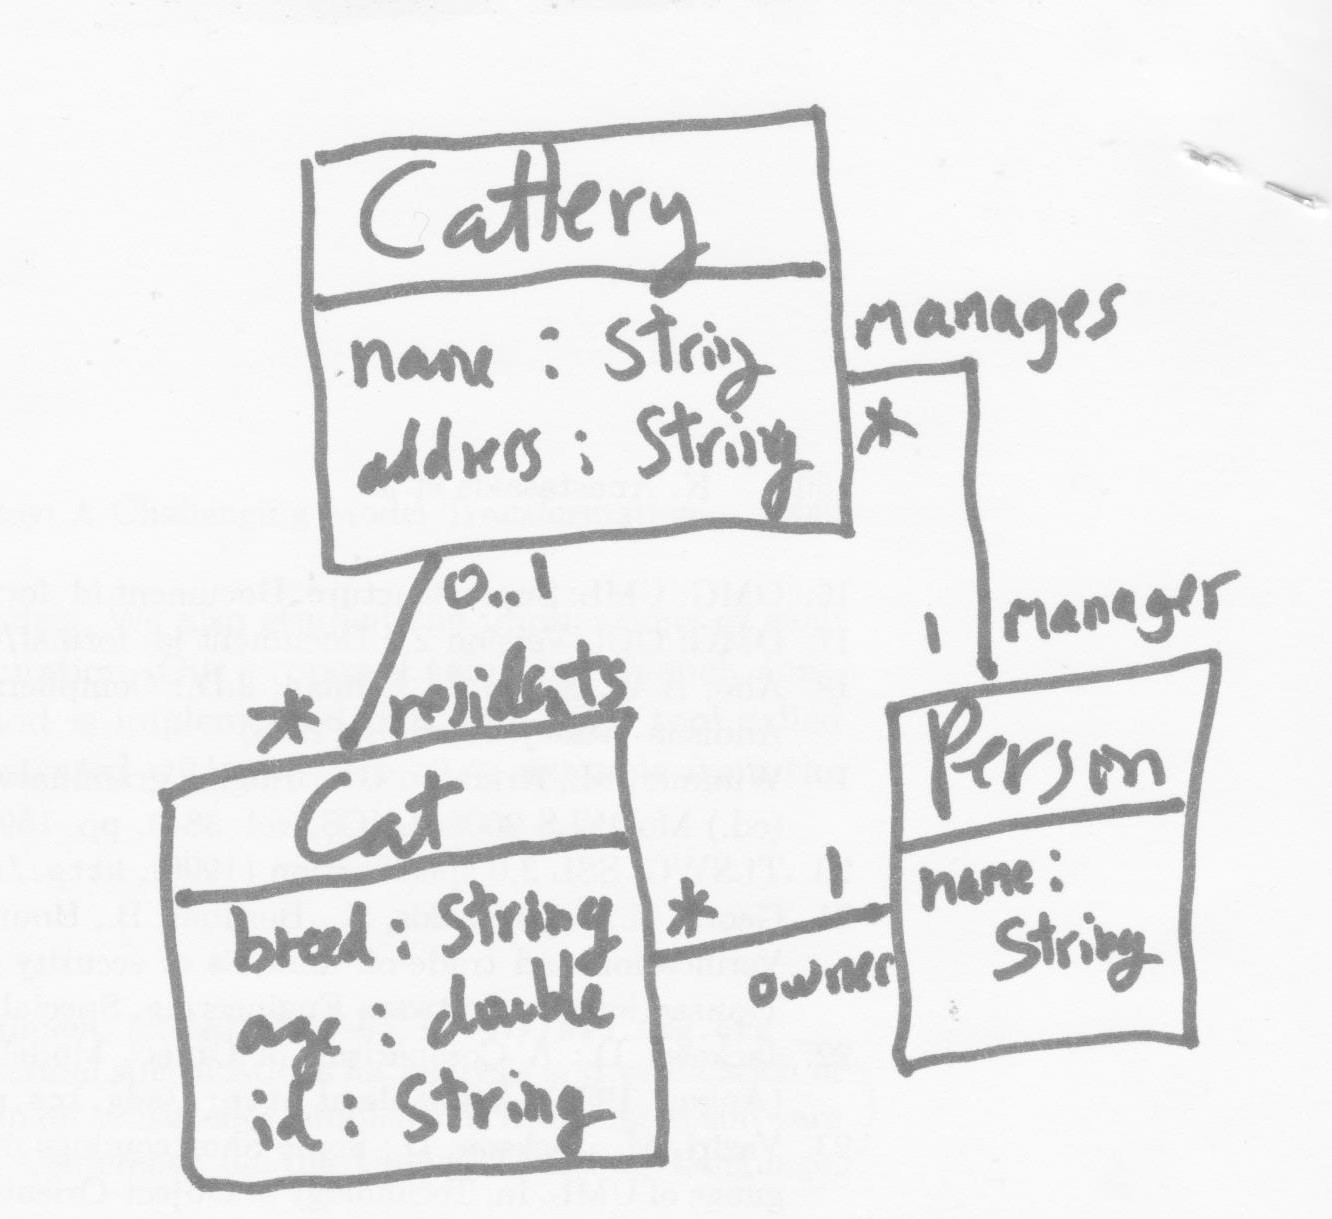association: (834, 275, 1270, 685), (202, 553, 666, 760), (641, 846, 903, 1009)
class attributes: (298, 97, 864, 578), (149, 699, 680, 1200), (883, 639, 1220, 1083)
